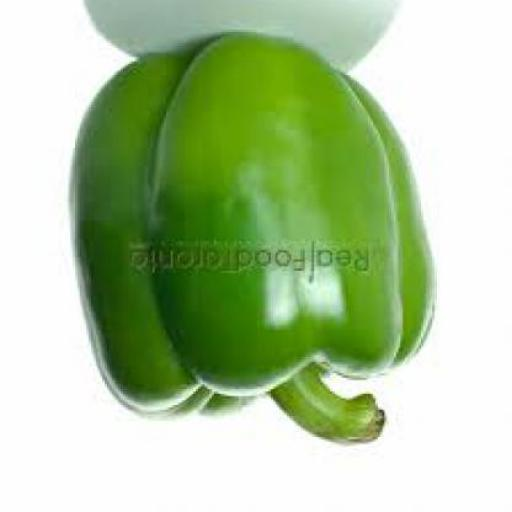biodegradable: (75, 34, 439, 448)
